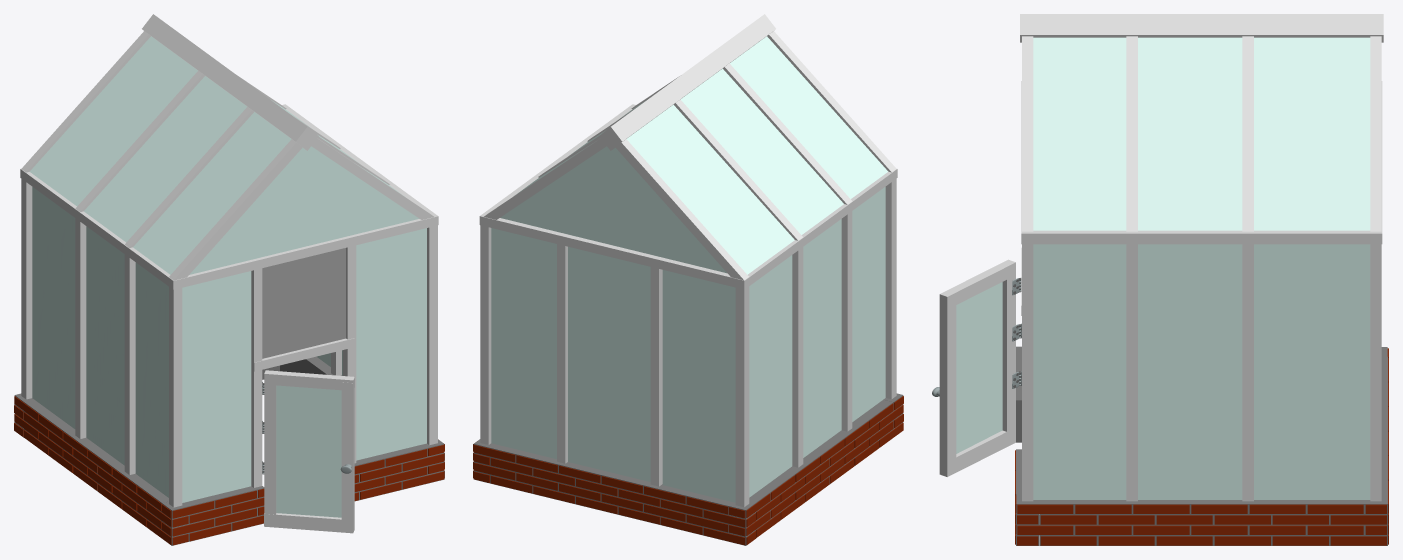
File: greenhouse_2 (2).fbx
The picture shows the model from 3 angles, left to right: view 1: azimuth 30°, elevation 25°; view 2: azimuth 150°, elevation 25°; view 3: azimuth 270°, elevation 25°; orthographic projection. The views are drawn at different scales.
Parts seen in each view (by area): view 1: polySurface27; view 2: polySurface27; view 3: polySurface27.
Boxes of the visible parts, x1,y1,x2,y2 form: polySurface27: (14, 14, 444, 545); polySurface27: (473, 14, 903, 545); polySurface27: (932, 14, 1388, 545).
Bounding box in the file's own units: 322 × 431 × 393.
